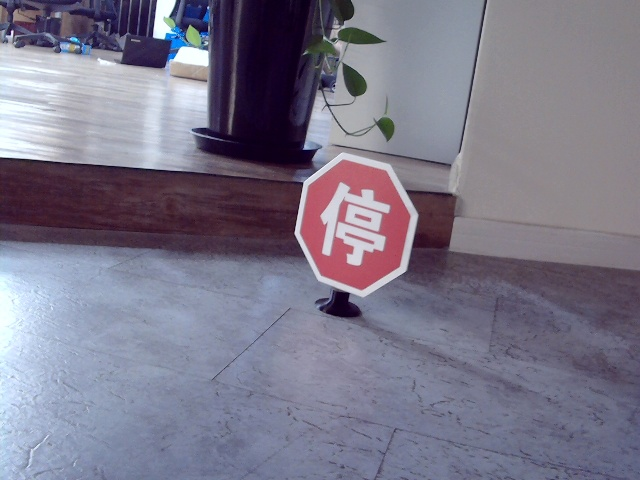stop: (315, 177, 392, 266)
